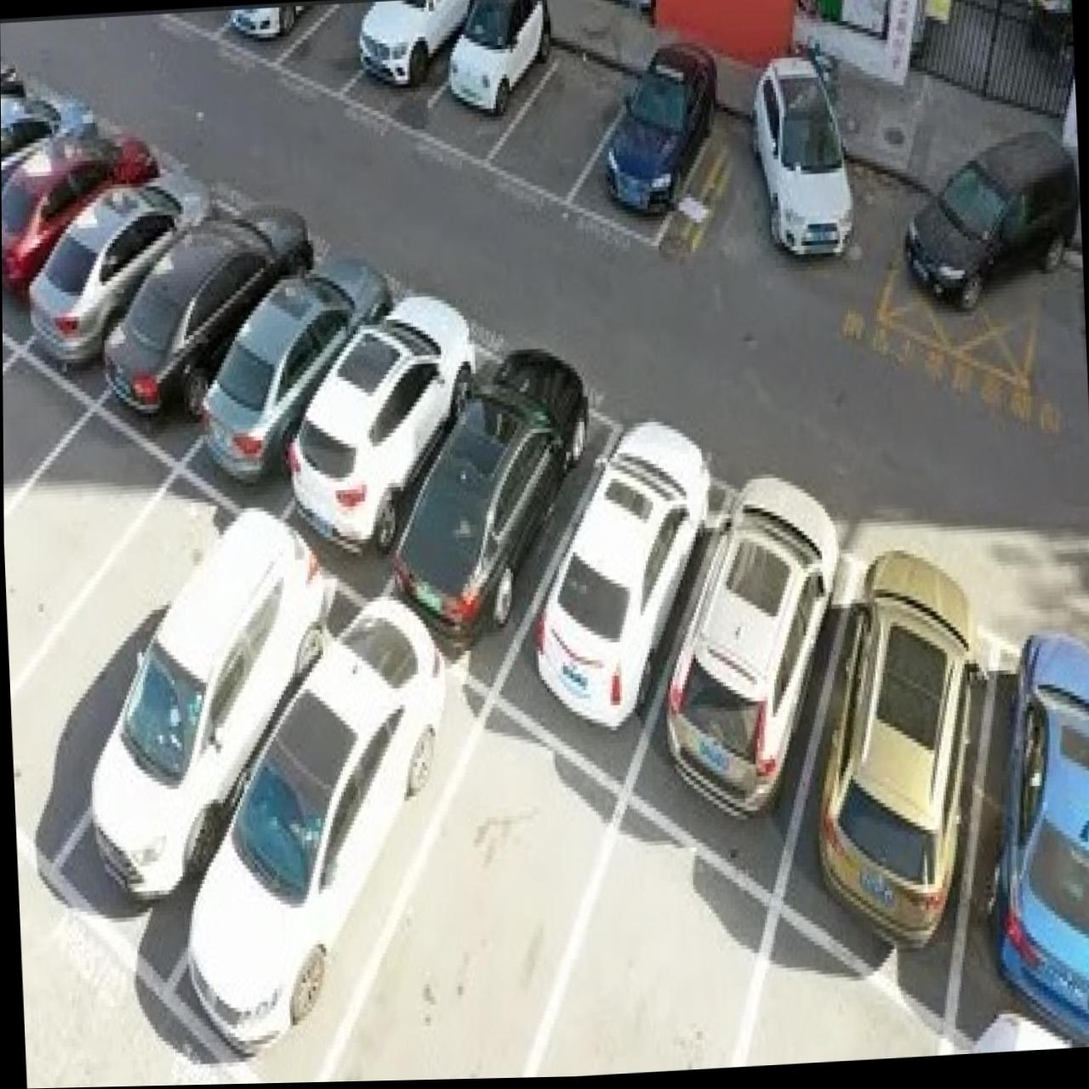cars: (153, 622, 498, 1085), (51, 534, 345, 935), (769, 564, 1008, 966), (612, 474, 855, 859), (490, 421, 712, 789), (380, 343, 606, 665), (270, 276, 485, 577), (177, 223, 396, 503), (99, 199, 303, 448), (973, 662, 1089, 1033), (28, 148, 199, 392), (579, 49, 715, 237), (421, 0, 548, 158), (345, 0, 473, 124)
empty: (337, 696, 631, 1082), (3, 454, 250, 844), (3, 365, 179, 681), (489, 31, 633, 194), (276, 0, 379, 99)
